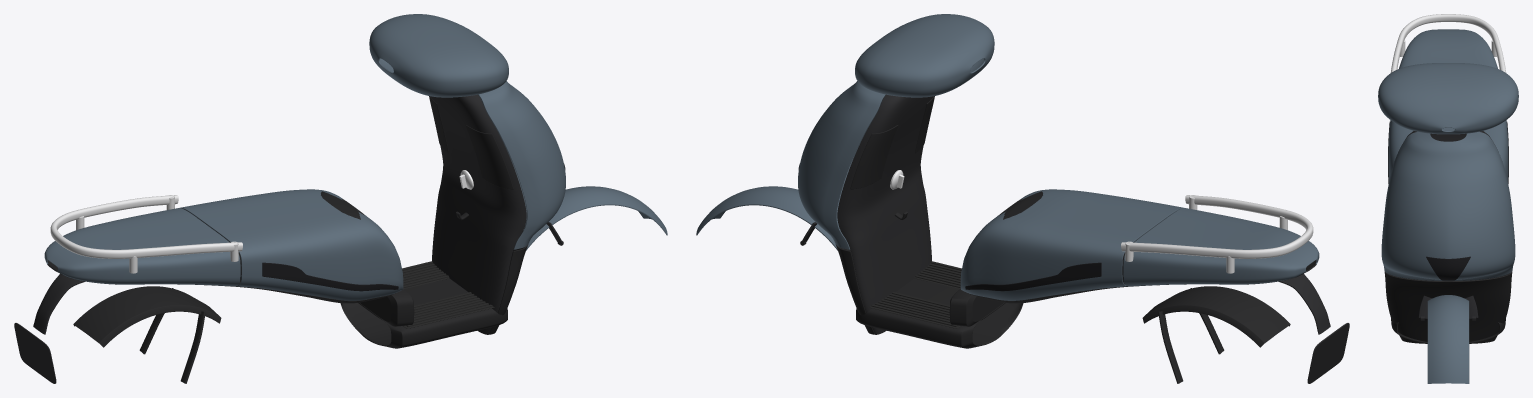
File: bike_scooter__bodywork.glb
3 views of the same model, side by side, from view 1: azimuth 30°, elevation 25°; view 2: azimuth 150°, elevation 25°; view 3: azimuth 270°, elevation 25° (orthographic). The views are drawn at different scales.
Visible parts, largest first — view 1: frame_body__side_panels, frame_body__leg_shield, frame_body__tail_cowl, frame_body__handlebar_cowl, frame_body__front_shield, frame_body__rear_hugger, frame_body__floorboard, frame_body__grab_rail, frame_body__floorboard__mats, frame_body__number_plate_hanger, frame_body__front_mudguard, frame_body__leg_shield__glovebox_lids (+3 smaller); view 2: frame_body__side_panels, frame_body__leg_shield, frame_body__tail_cowl, frame_body__handlebar_cowl, frame_body__front_shield, frame_body__rear_hugger, frame_body__floorboard, frame_body__grab_rail, frame_body__floorboard__mats, frame_body__number_plate_hanger, frame_body__front_mudguard, frame_body__leg_shield__glovebox_lids (+3 smaller); view 3: frame_body__front_shield, frame_body__handlebar_cowl, frame_body__front_lower_cover, frame_body__front_mudguard, frame_body__tail_cowl, frame_body__grab_rail, frame_body__side_panels, frame_body__front_shield__nose_garnish, frame_body__front_mudguard__brackets, frame_body__leg_shield, frame_body__floorboard.
Boxes of the visible parts, x1,y1,x2,y2 form: frame_body__side_panels: [180, 189, 403, 300]; frame_body__leg_shield: [430, 94, 526, 334]; frame_body__tail_cowl: [44, 208, 240, 286]; frame_body__handlebar_cowl: [369, 14, 508, 97]; frame_body__front_shield: [478, 81, 565, 249]; frame_body__rear_hugger: [73, 286, 221, 383]; frame_body__floorboard: [340, 278, 507, 348]; frame_body__grab_rail: [50, 195, 242, 273]; frame_body__floorboard__mats: [402, 261, 494, 328]; frame_body__number_plate_hanger: [14, 273, 84, 383]; frame_body__front_mudguard: [523, 186, 667, 250]; frame_body__leg_shield__glovebox_lids: [429, 96, 513, 189]; frame_body__side_panels: [960, 189, 1183, 300]; frame_body__leg_shield: [837, 94, 933, 334]; frame_body__tail_cowl: [1123, 208, 1319, 286]; frame_body__handlebar_cowl: [855, 14, 994, 97]; frame_body__front_shield: [798, 81, 885, 249]; frame_body__rear_hugger: [1142, 286, 1290, 383]; frame_body__floorboard: [856, 278, 1023, 348]; frame_body__grab_rail: [1121, 195, 1313, 273]; frame_body__floorboard__mats: [869, 261, 961, 328]; frame_body__number_plate_hanger: [1279, 273, 1349, 383]; frame_body__front_mudguard: [696, 186, 840, 250]; frame_body__leg_shield__glovebox_lids: [850, 96, 934, 189]; frame_body__front_shield: [1381, 131, 1515, 280]; frame_body__handlebar_cowl: [1378, 63, 1518, 134]; frame_body__front_lower_cover: [1384, 271, 1512, 343]; frame_body__front_mudguard: [1427, 295, 1469, 383]; frame_body__tail_cowl: [1399, 29, 1497, 68]; frame_body__grab_rail: [1390, 14, 1506, 72]; frame_body__side_panels: [1388, 120, 1508, 181]; frame_body__front_shield__nose_garnish: [1426, 256, 1470, 280]; frame_body__front_mudguard__brackets: [1418, 295, 1478, 320]; frame_body__leg_shield: [1387, 131, 1509, 281]; frame_body__floorboard: [1391, 318, 1505, 343].
Bounding box in the file's own units: 191 × 83.3 × 42.22.
